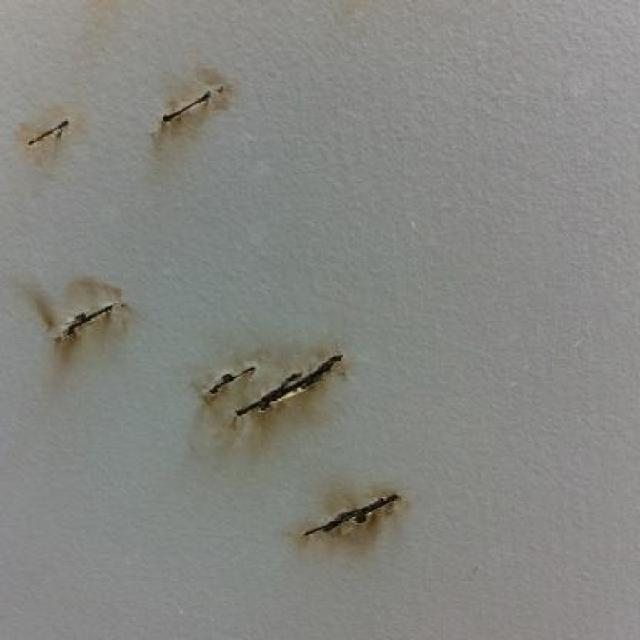crack: (245, 356, 342, 410), (314, 489, 399, 531), (166, 85, 225, 122), (62, 302, 116, 333), (29, 119, 71, 144), (216, 366, 257, 388)
